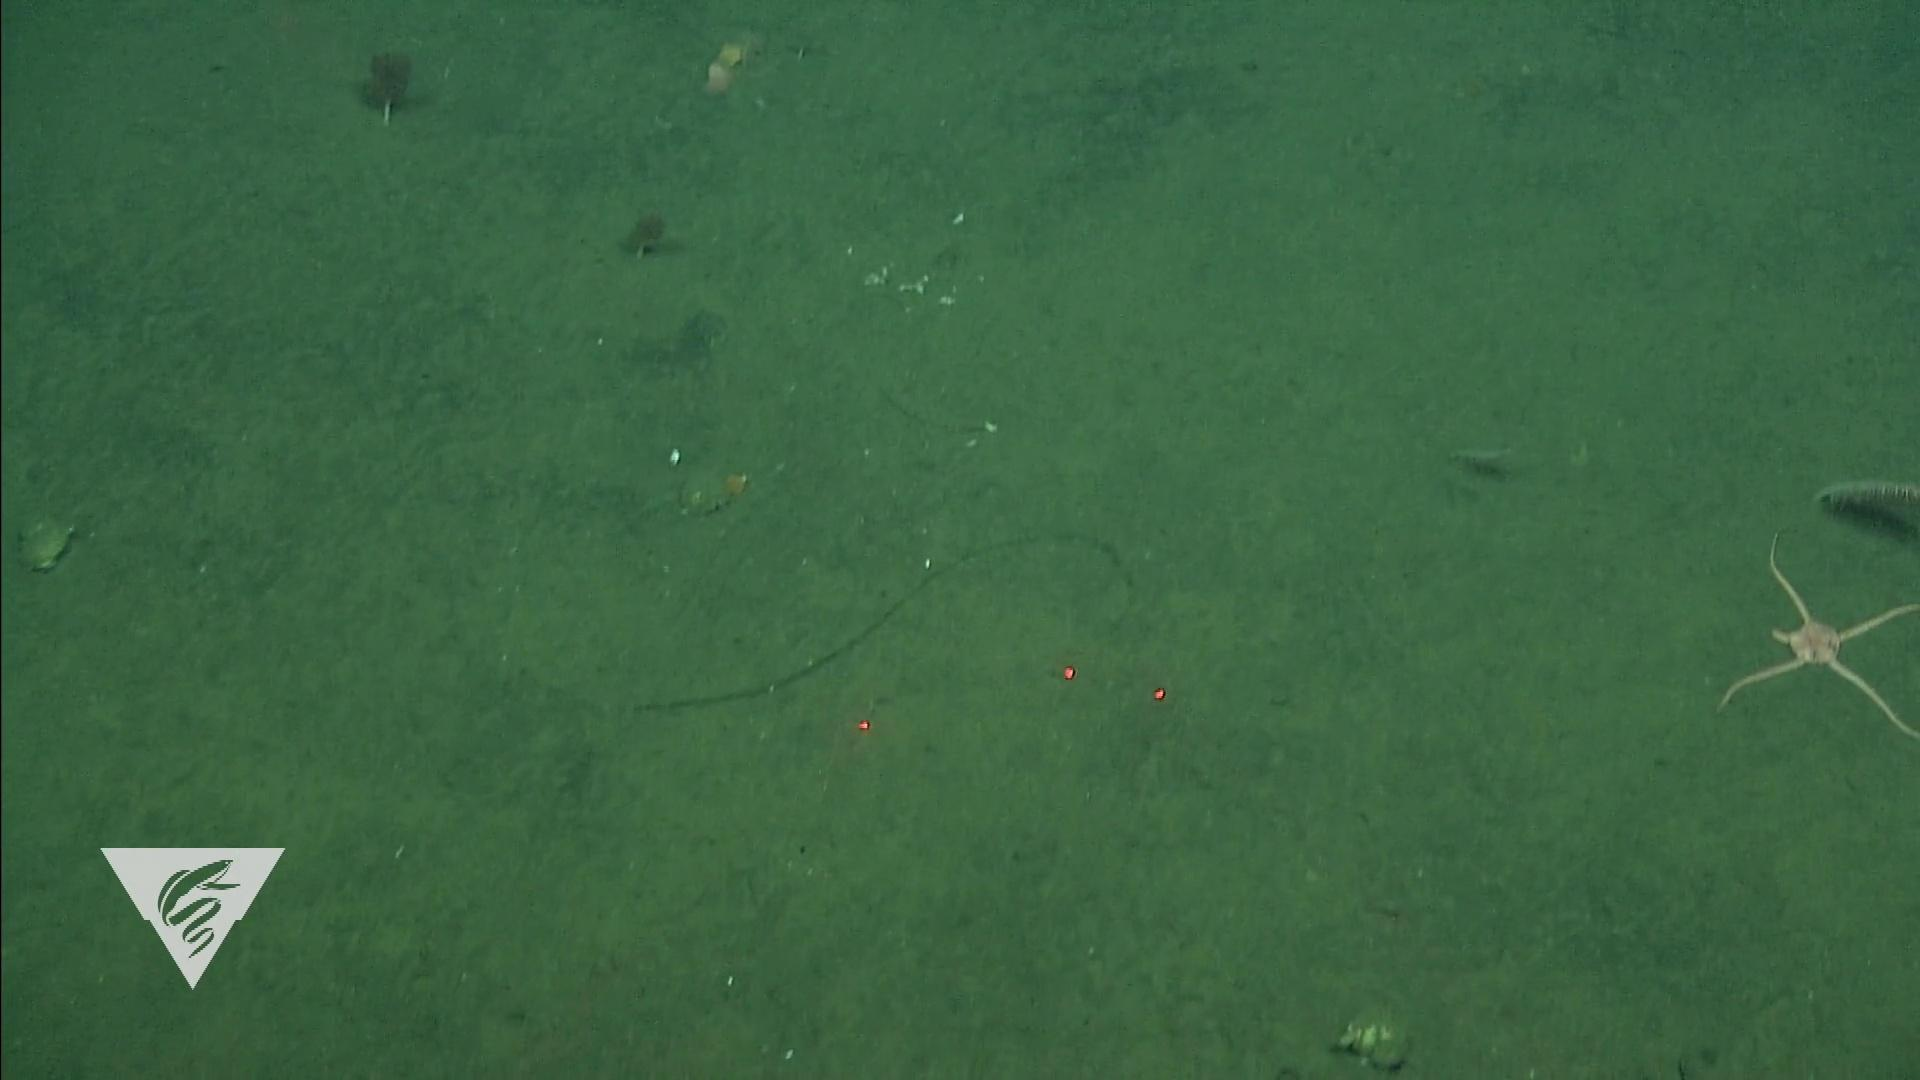Brittle Star: (1722, 537, 1920, 735)
